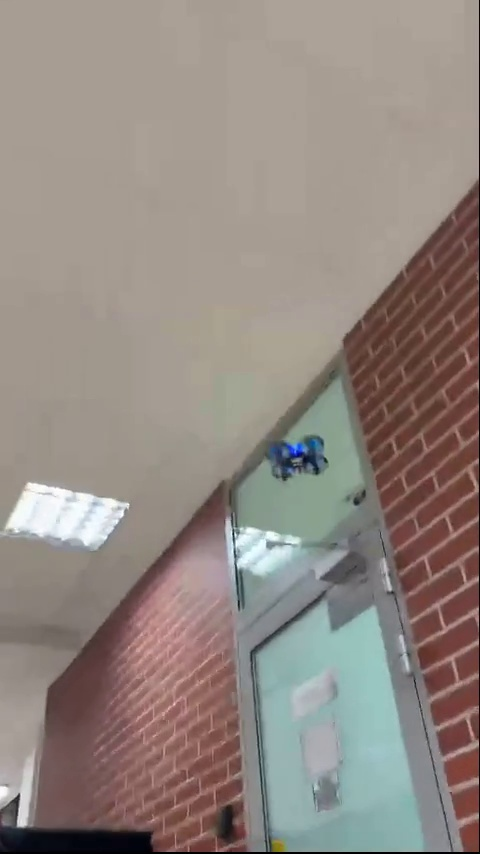drone: (265, 436, 330, 482)
